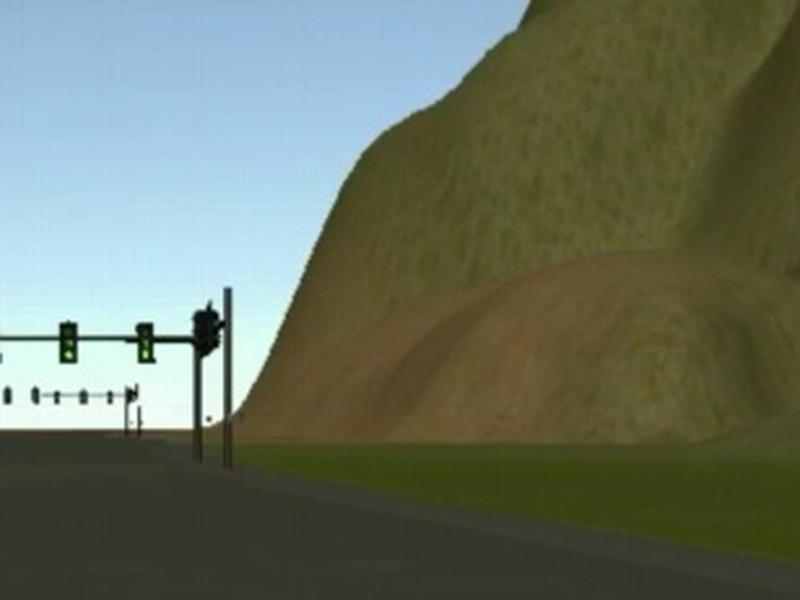Green: (58, 320, 79, 362), (136, 323, 154, 363)
